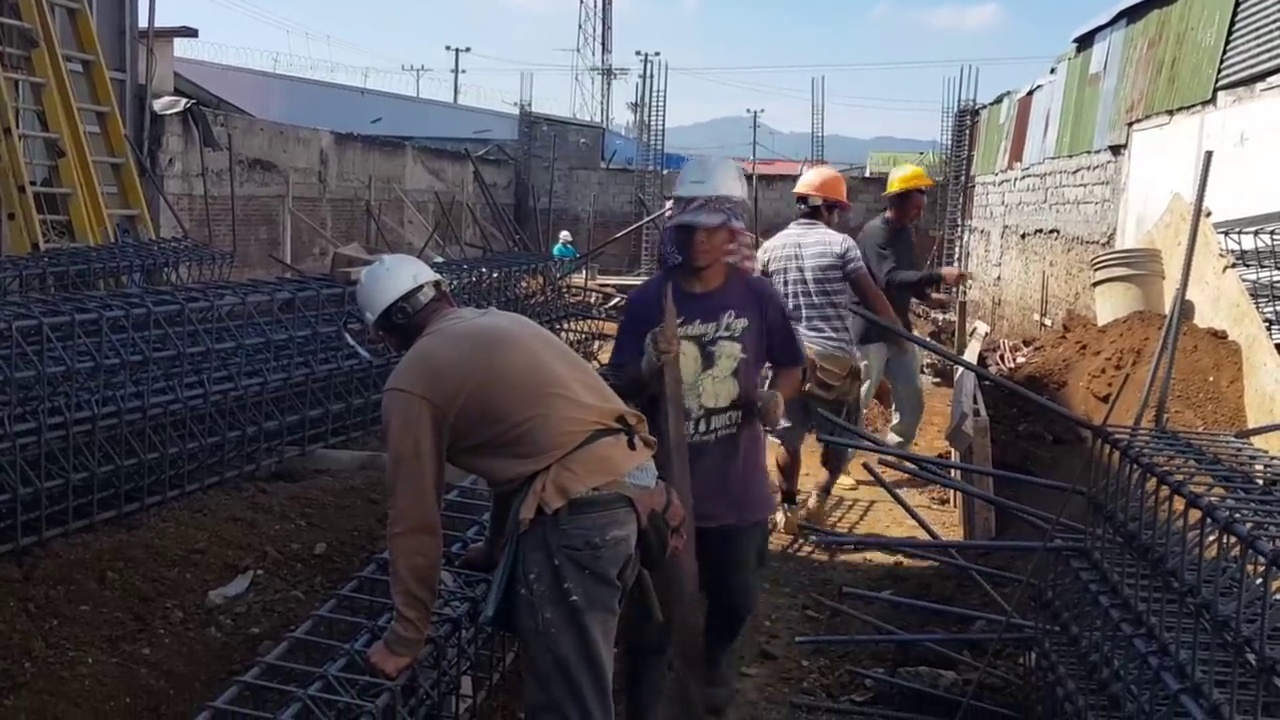helmet: (350, 258, 442, 339), (661, 150, 757, 220), (793, 166, 851, 208), (882, 159, 935, 201), (559, 231, 573, 241)
helmet-on: (659, 150, 757, 297), (349, 254, 461, 352), (881, 159, 936, 236), (792, 167, 851, 230), (557, 231, 573, 248)
person: (349, 252, 686, 717), (609, 152, 811, 711), (769, 156, 889, 508), (862, 156, 962, 459), (552, 230, 579, 262)
